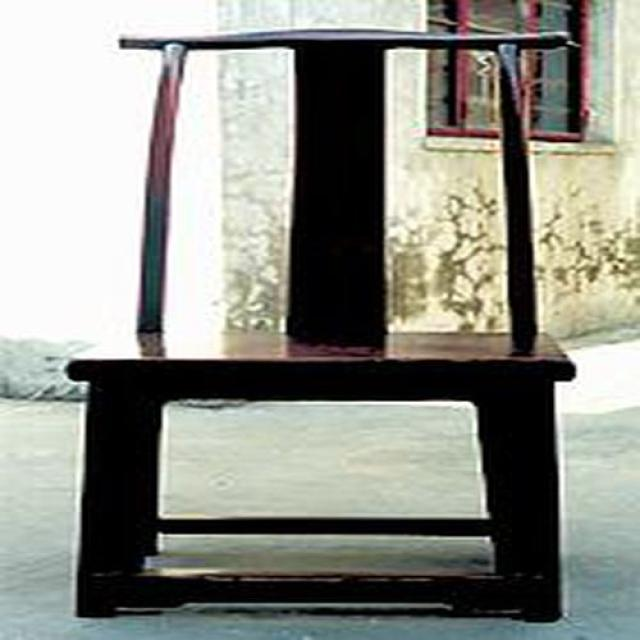chair: (65, 31, 579, 626)
